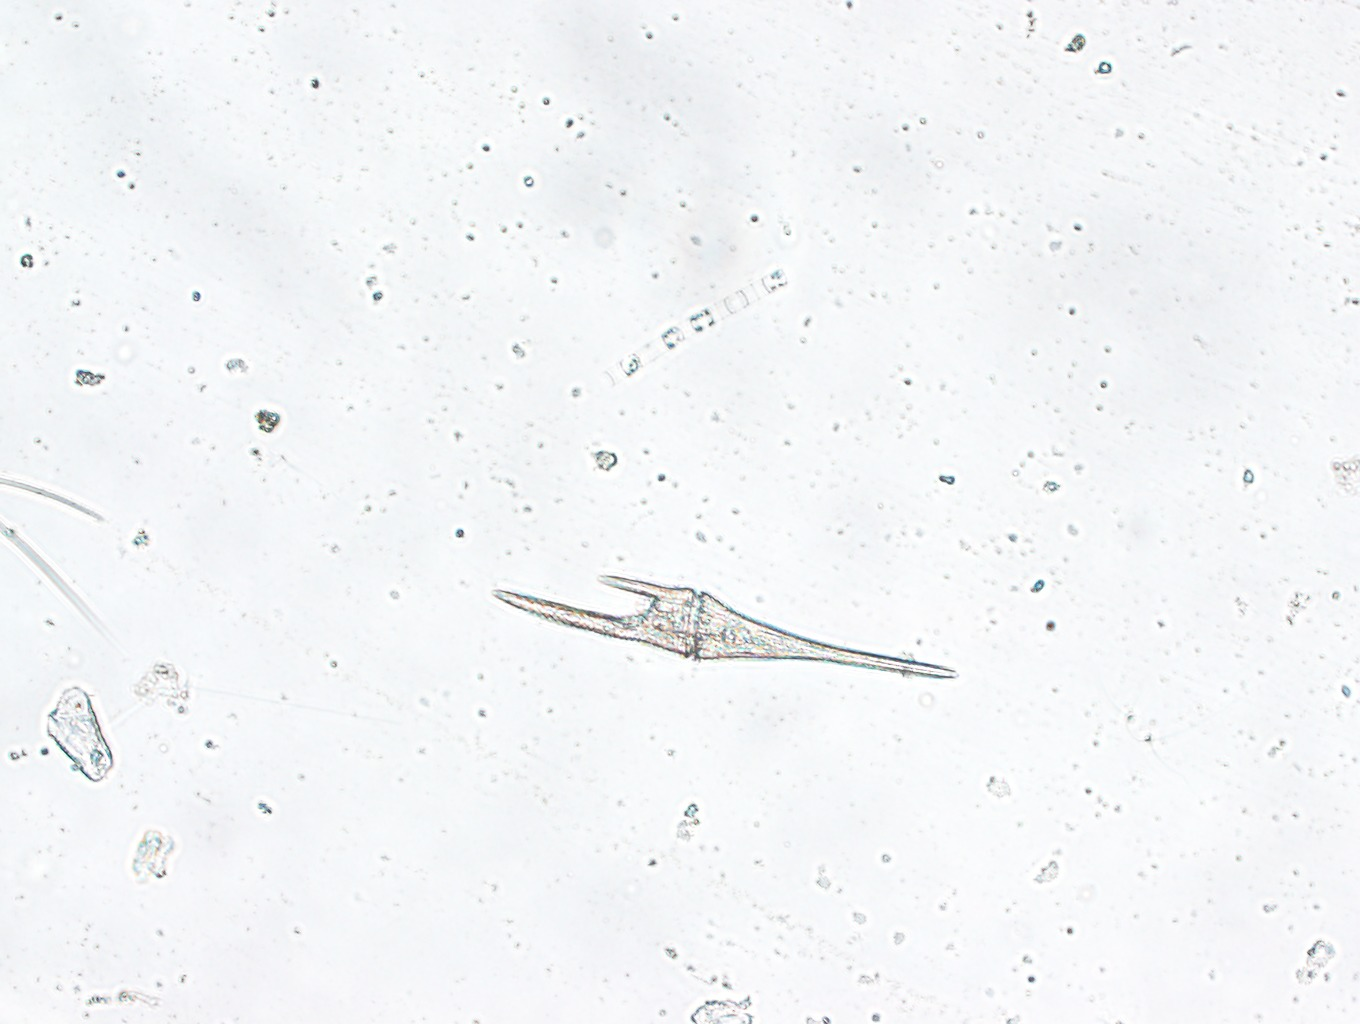ceratium furca: (488, 577, 958, 682)
skeletonema: (600, 266, 796, 393)
